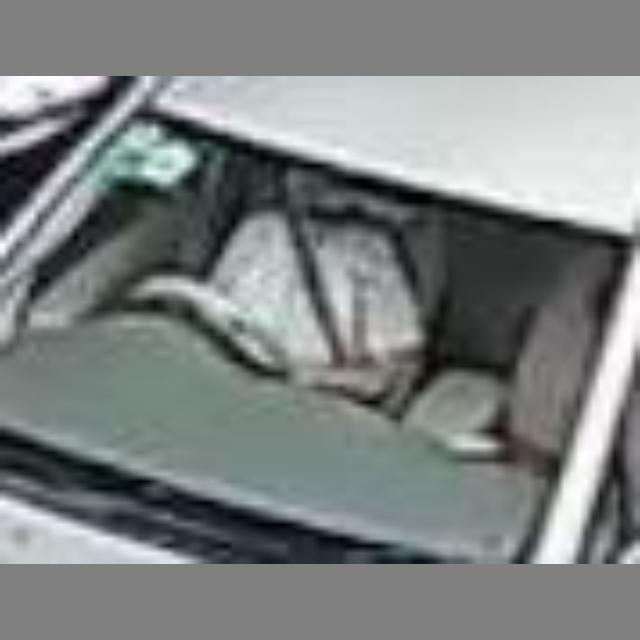pakai: (209, 184, 410, 407)
